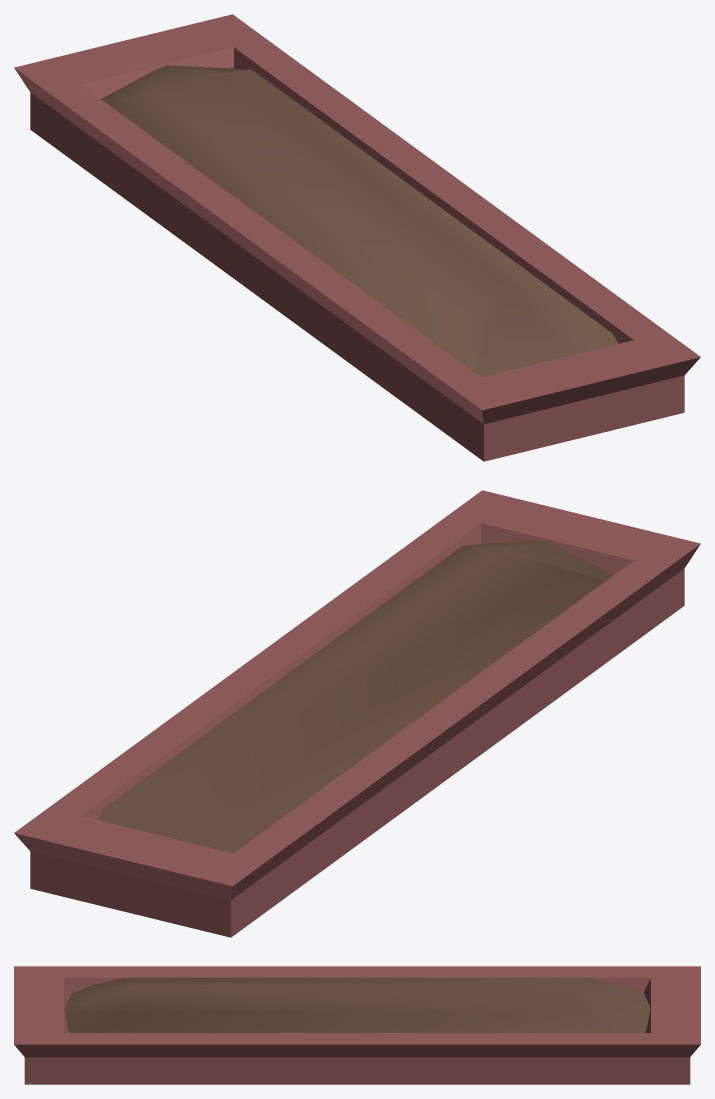
File: flowerbed_brick.fbx
3 views of the same model, one above another, from view 1: azimuth 30°, elevation 25°; view 2: azimuth 150°, elevation 25°; view 3: azimuth 270°, elevation 25° (orthographic). The views are drawn at different scales.
Parts seen in each view (by area): view 1: flowerbed; view 2: flowerbed; view 3: flowerbed.
Boxes of the visible parts, x1,y1,x2,y2 form: flowerbed: [14, 14, 700, 461]; flowerbed: [14, 490, 700, 937]; flowerbed: [14, 966, 700, 1084].
Size of the model in its own units: 2.26 by 0.8685 by 8.37.
